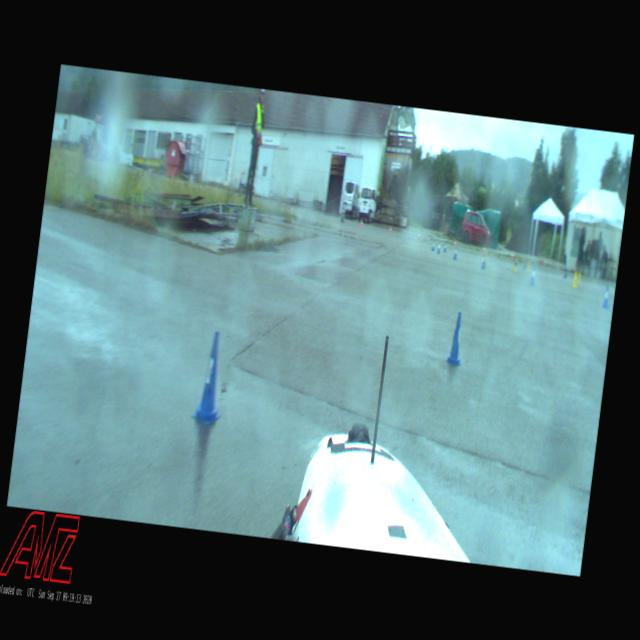blue_cone: (192, 329, 230, 424), (444, 312, 466, 366), (602, 286, 610, 304), (528, 266, 536, 283), (481, 254, 486, 268), (436, 242, 441, 252), (430, 240, 435, 250), (454, 246, 457, 256), (443, 241, 446, 250)
orange_cone: (452, 239, 456, 246), (388, 224, 391, 233)
yellow_cone: (512, 257, 517, 270), (572, 274, 576, 286)
